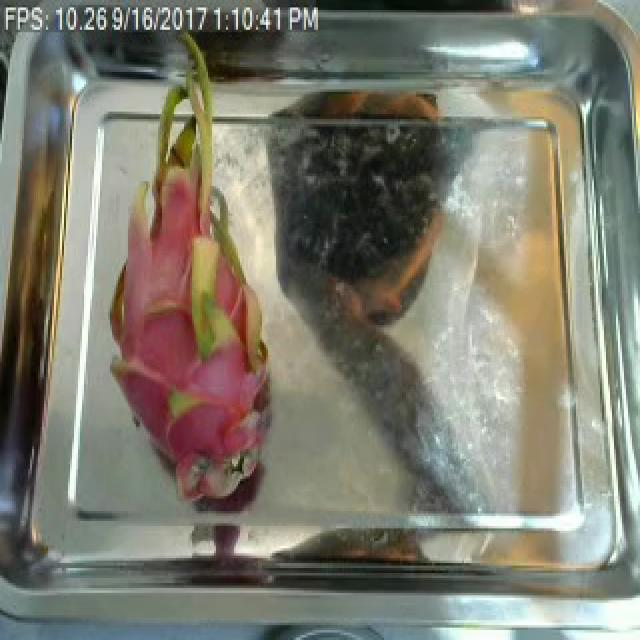fruit: (84, 70, 292, 503)
